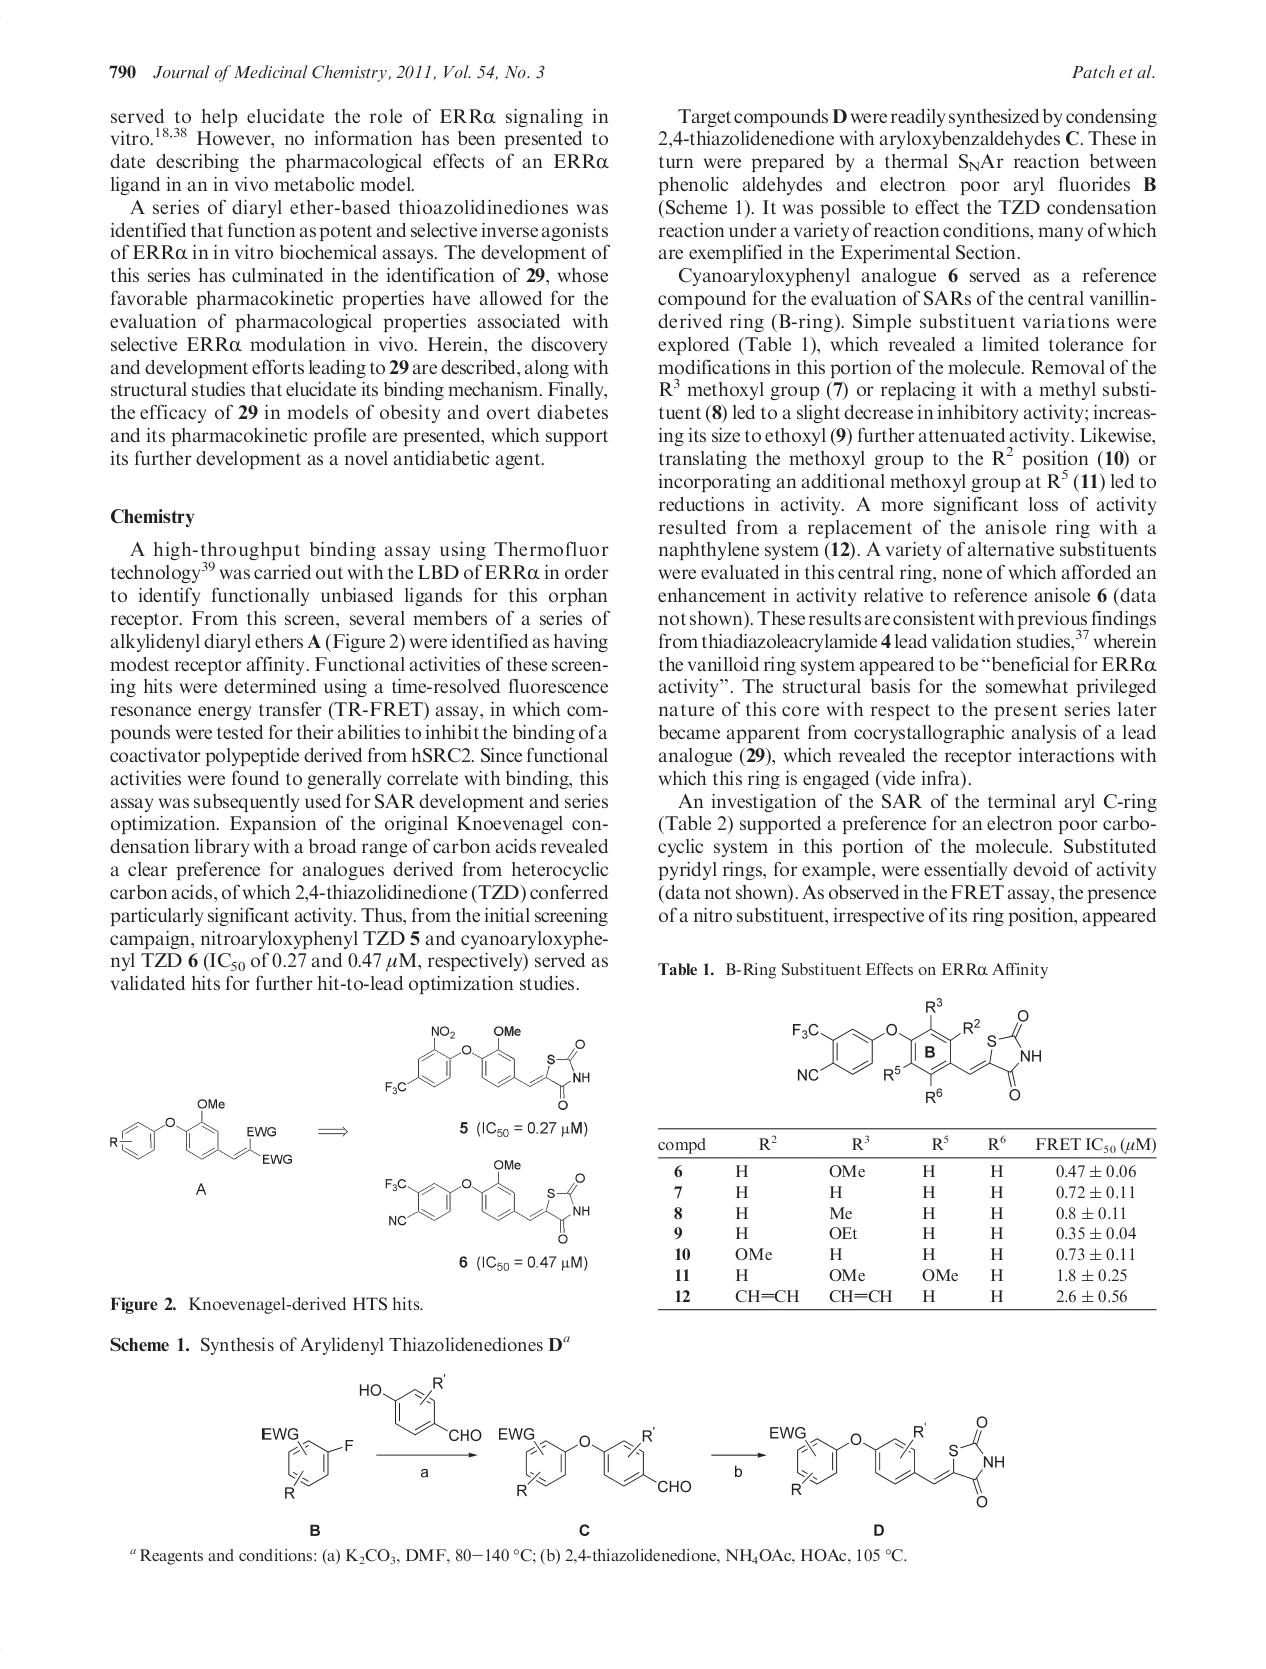exist_molecular: (789, 996, 1045, 1105), (767, 1416, 1005, 1509), (382, 1021, 590, 1113), (380, 1158, 592, 1246), (496, 1422, 696, 1499), (106, 1098, 295, 1172), (359, 1374, 481, 1446), (262, 1423, 355, 1500)
